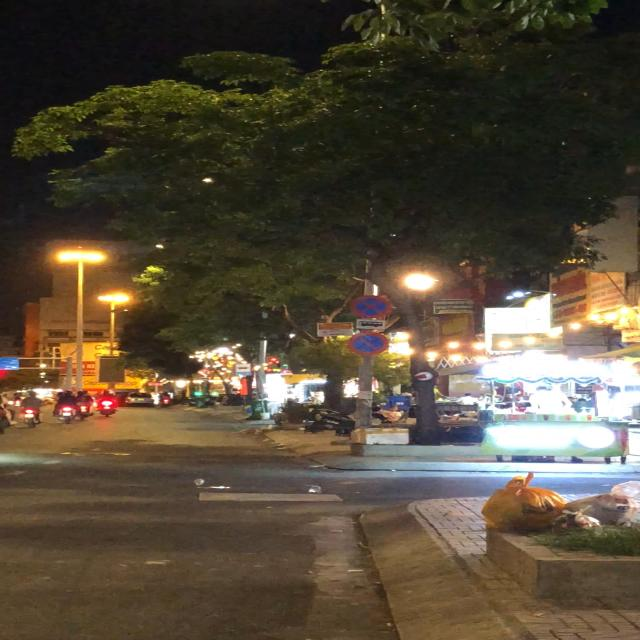Bien bao cam do xe: (348, 331, 390, 358)
Bien bao cam dung xe va do xe: (351, 295, 392, 319)
